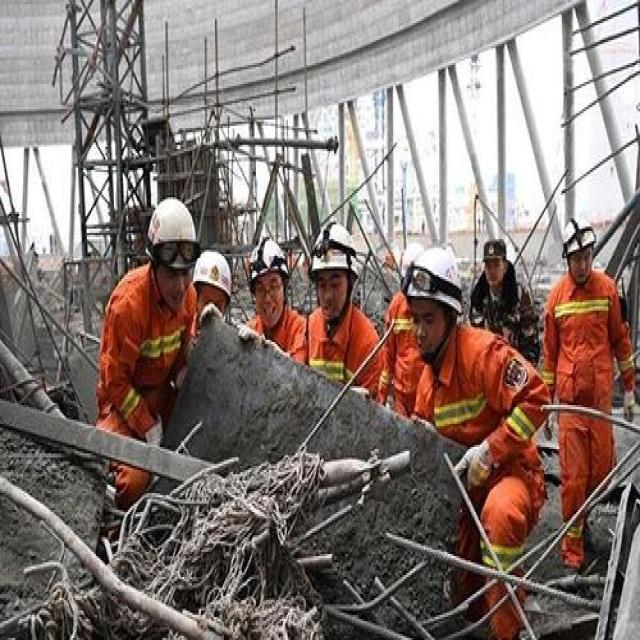helmet: (408, 328, 465, 479), (142, 260, 199, 396), (313, 290, 364, 430), (188, 332, 234, 449), (563, 287, 597, 381), (252, 320, 285, 412)
vest: (410, 460, 547, 625), (95, 361, 199, 547), (545, 376, 637, 549), (302, 412, 388, 523)
